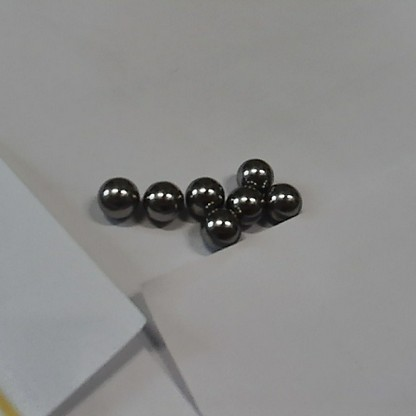ironball: (97, 177, 139, 220), (143, 181, 182, 222), (187, 174, 222, 216), (202, 210, 239, 246), (266, 182, 299, 221), (227, 187, 261, 223), (237, 157, 273, 189)
